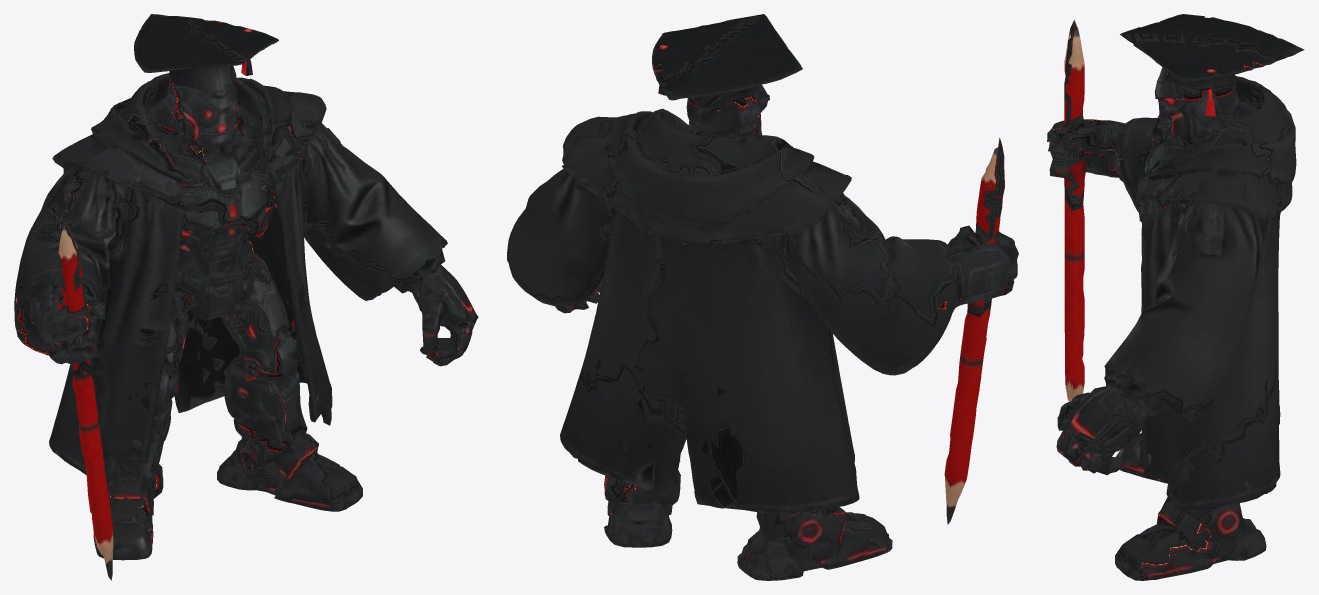
File: statue-all.glb
3 views of the same model, side by side, from view 1: azimuth 30°, elevation 25°; view 2: azimuth 150°, elevation 25°; view 3: azimuth 270°, elevation 25° (orthographic). The views are drawn at different scales.
Parts seen in each view (by area): view 1: body; view 2: body; view 3: body.
Part boxes in pixels (x1,y1,x2,y2): body: (14, 14, 478, 580); body: (507, 14, 1018, 580); body: (1047, 14, 1304, 580).
Size of the model in its own units: 0.9749 by 0.9992 by 0.4826.
1 material, 1 textured.
